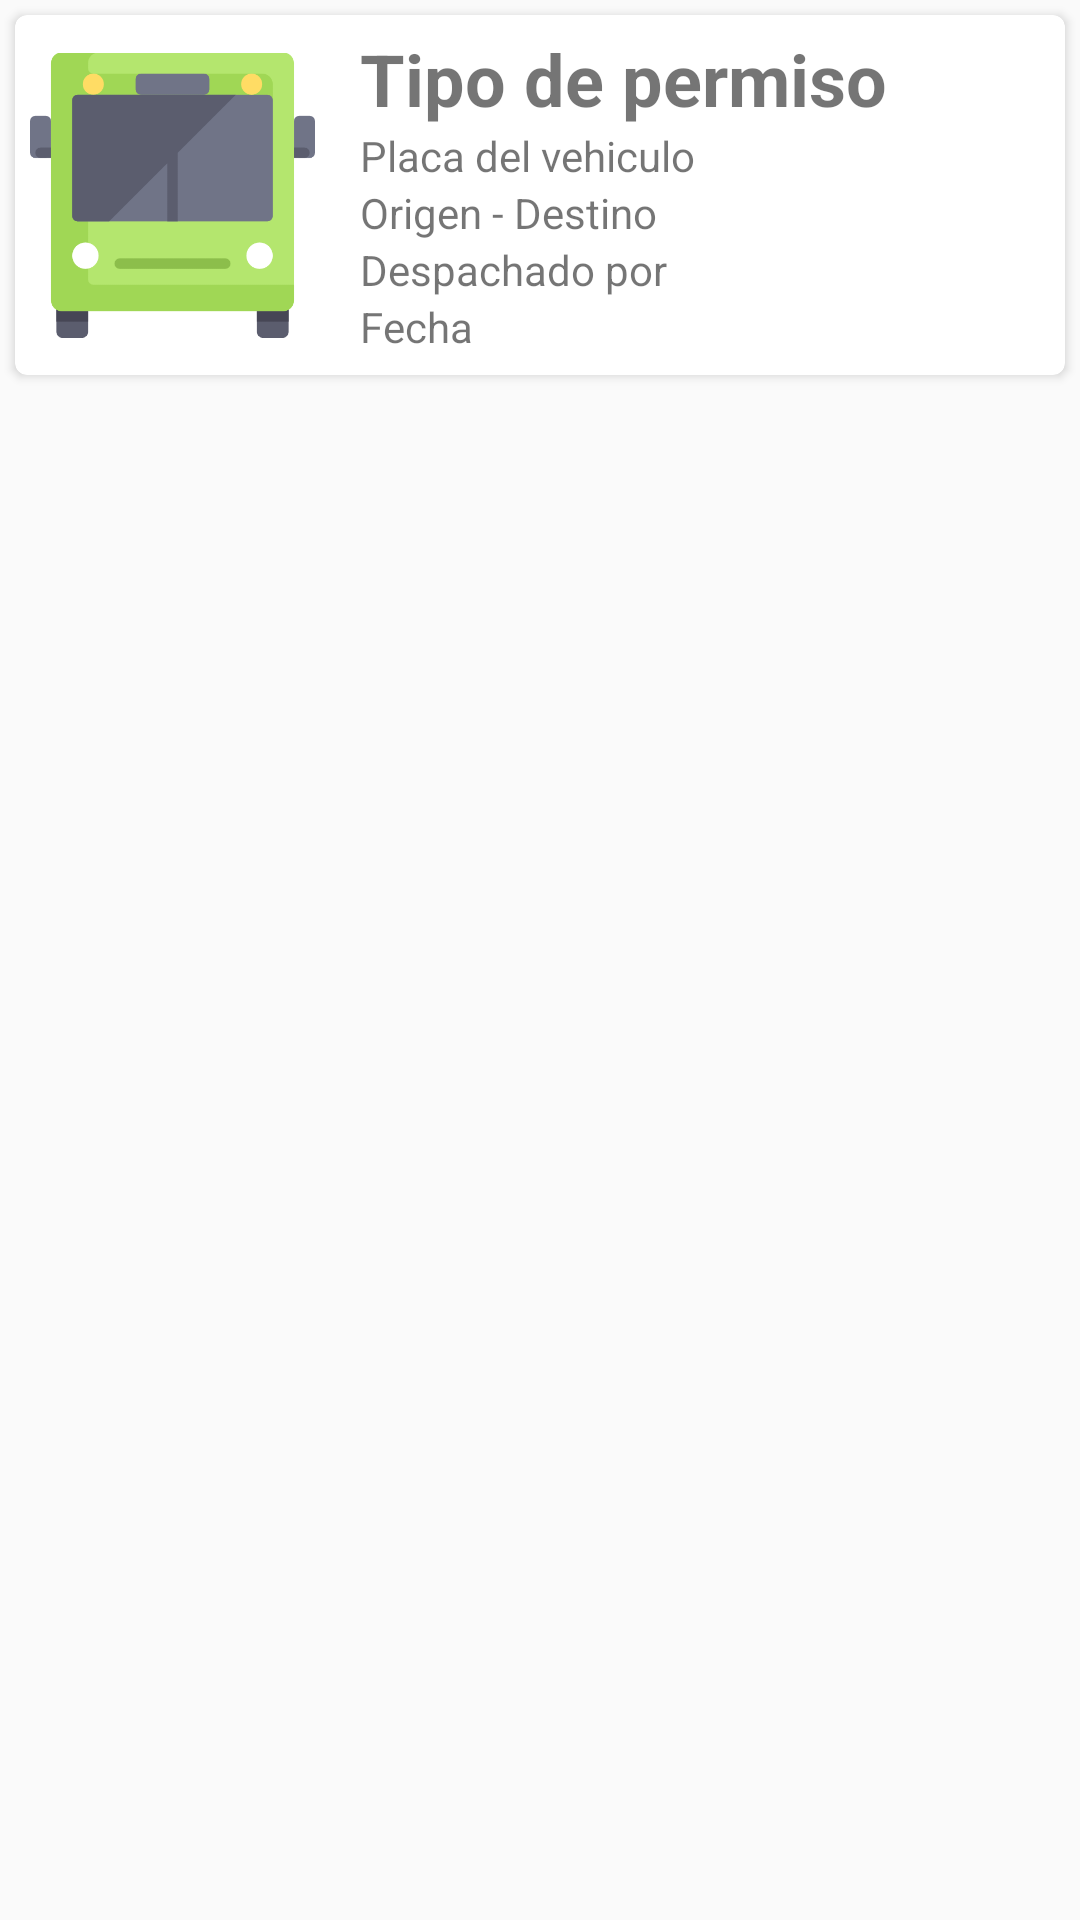

Icons on this 1080x1920 Android screen, each with its box as (x1, y1, x2, y2):
autobus: (30, 53, 315, 338)
